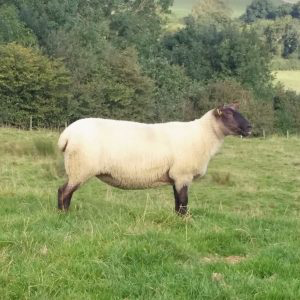koyun: (56, 104, 252, 211)
